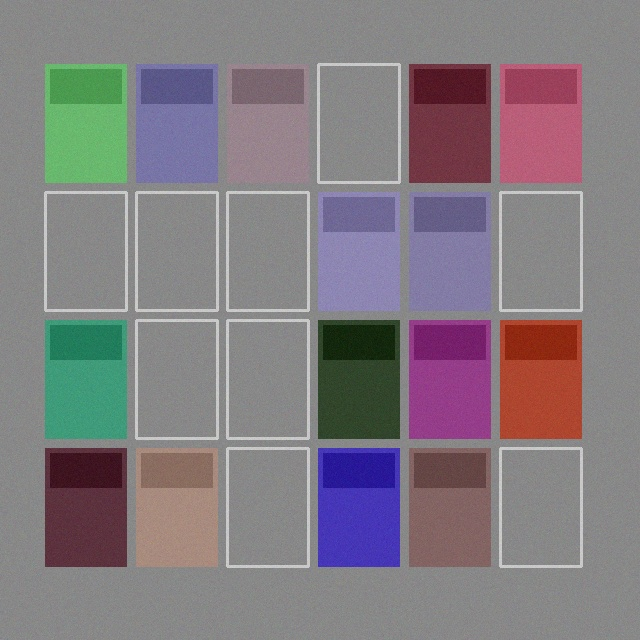space-empty: (318, 64, 399, 182), (45, 192, 126, 310), (136, 192, 217, 310), (227, 192, 308, 310), (500, 192, 581, 310), (136, 320, 217, 438), (227, 320, 308, 438), (227, 448, 308, 566), (500, 448, 581, 566)
space-occupied: (45, 64, 126, 182), (136, 64, 217, 182), (227, 64, 308, 182), (409, 64, 490, 182), (500, 64, 581, 182), (318, 192, 399, 310), (409, 192, 490, 310), (45, 320, 126, 438), (318, 320, 399, 438), (409, 320, 490, 438), (500, 320, 581, 438), (45, 448, 126, 566), (136, 448, 217, 566), (318, 448, 399, 566), (409, 448, 490, 566)
